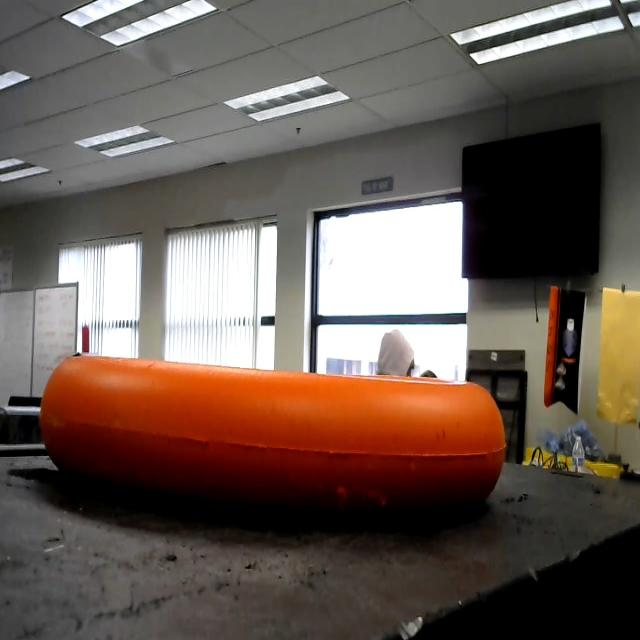note: (38, 343, 526, 534)
